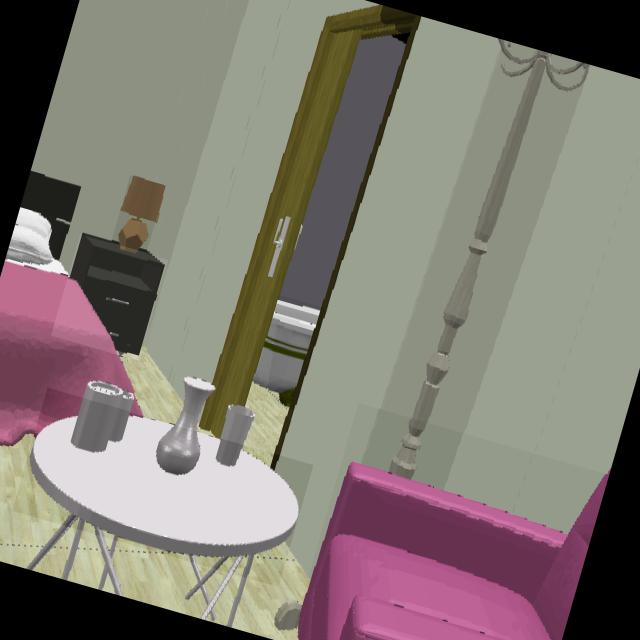bathtube: (254, 302, 322, 408)
bed: (0, 257, 132, 449)
lamp: (116, 177, 163, 256)
nighttable: (71, 236, 163, 357)
pillow: (4, 207, 53, 270)
sofa: (297, 466, 608, 640)
table: (28, 417, 299, 562)
